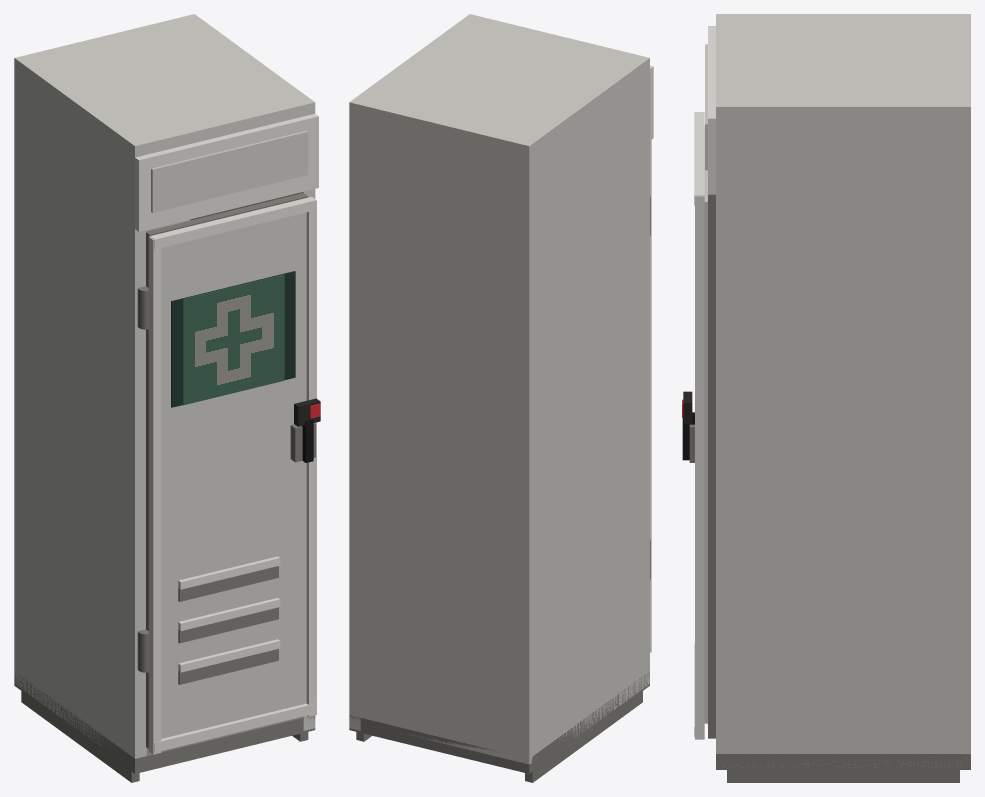
The model's file is CMU3DInheritedLockersMedicalWhiteCloud.glb.
The picture shows the model from 3 angles, left to right: view 1: azimuth 30°, elevation 25°; view 2: azimuth 150°, elevation 25°; view 3: azimuth 270°, elevation 25°; orthographic projection. The views are drawn at different scales.
Visible parts, largest first — view 1: full-depth side wall -1, separate closed steel door, top structural cap, original departmental identity emblem, header inset field, raised vertical door molding -1, header front band, rear structural panel, raised vertical door molding 1, bottom pan, source-width identity panel side frame, raised horizontal door molding 1.44 (+11 smaller); view 2: rear structural panel, full-depth side wall -1, top structural cap, full-depth side wall 1, bottom pan, grounded cabinet foot -1, raised vertical door molding -1; view 3: full-depth side wall 1, top structural cap, rear structural panel, raised vertical door molding 1, door shadow gasket, bottom pan, grounded cabinet foot 1, separate closed steel door, full-depth side wall -1, header front band, raised horizontal door molding 1.44.
Boxes of the visible parts, bbox=[...] form: full-depth side wall -1: bbox=[14, 56, 146, 758]; separate closed steel door: bbox=[161, 212, 306, 738]; top structural cap: bbox=[15, 14, 315, 159]; original departmental identity emblem: bbox=[183, 274, 284, 405]; header inset field: bbox=[151, 130, 308, 212]; raised vertical door molding -1: bbox=[148, 236, 161, 754]; header front band: bbox=[135, 113, 318, 231]; rear structural panel: bbox=[14, 14, 201, 680]; raised vertical door molding 1: bbox=[306, 197, 316, 716]; bottom pan: bbox=[14, 674, 315, 773]; source-width identity panel side frame: bbox=[171, 271, 295, 407]; raised horizontal door molding 1.44: bbox=[150, 197, 315, 249]; rear structural panel: bbox=[349, 97, 536, 764]; full-depth side wall -1: bbox=[518, 55, 649, 754]; top structural cap: bbox=[349, 14, 649, 160]; full-depth side wall 1: bbox=[349, 14, 480, 730]; bottom pan: bbox=[349, 671, 649, 773]; grounded cabinet foot -1: bbox=[525, 691, 642, 782]; raised vertical door molding -1: bbox=[650, 140, 651, 652]; full-depth side wall 1: bbox=[716, 101, 970, 767]; top structural cap: bbox=[716, 14, 970, 122]; rear structural panel: bbox=[955, 14, 970, 758]; raised vertical door molding 1: bbox=[695, 195, 704, 739]; door shadow gasket: bbox=[708, 194, 715, 738]; bottom pan: bbox=[716, 754, 970, 769]; grounded cabinet foot 1: bbox=[727, 770, 959, 782]; separate closed steel door: bbox=[704, 126, 707, 723]; full-depth side wall -1: bbox=[716, 14, 970, 19]; header front band: bbox=[708, 26, 715, 194]; raised horizontal door molding 1.44: bbox=[694, 112, 704, 205].
Size of the model in its own units: 0.5 by 1.7 by 0.657.
8 materials, 1 textured.
